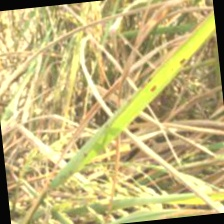Bacterial_Leaf_Blight: (176, 52, 191, 67), (146, 81, 161, 94), (78, 150, 91, 159)
